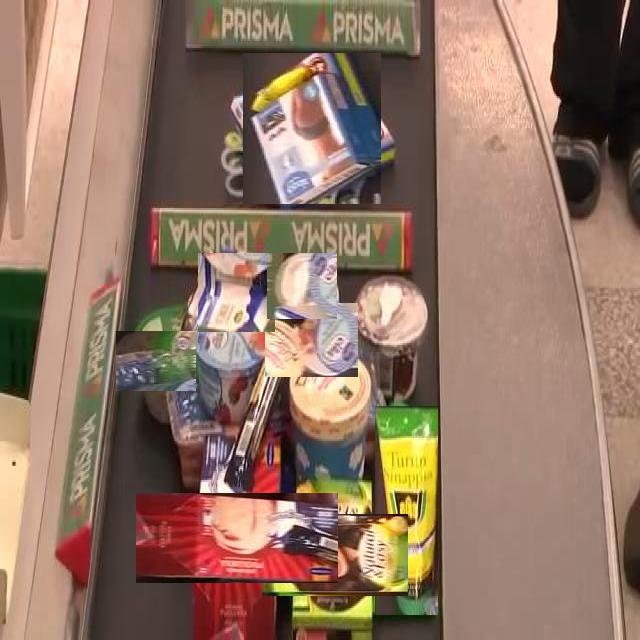food-box: (360, 268, 426, 406), (130, 316, 222, 406), (196, 309, 269, 416), (269, 298, 353, 382), (197, 252, 275, 332), (268, 252, 337, 320)
utility-box: (163, 465, 310, 612), (240, 55, 384, 201), (374, 405, 438, 615), (277, 498, 392, 613)
